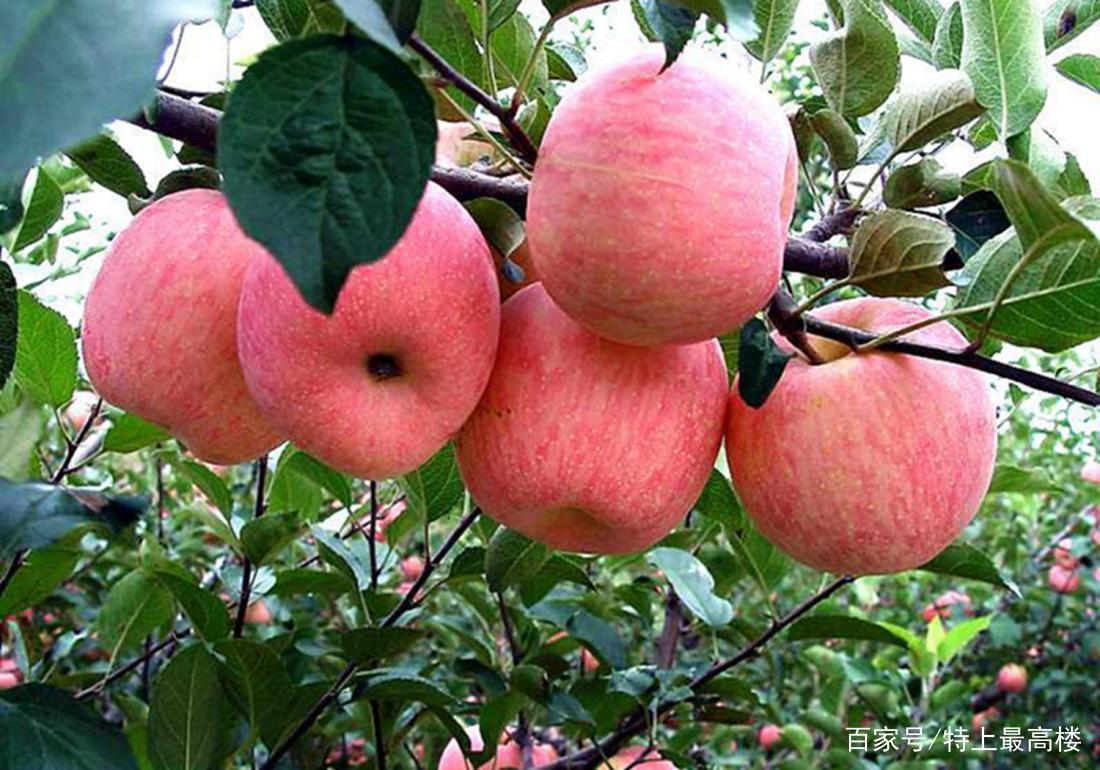apple: (523, 46, 796, 344), (235, 174, 499, 475), (457, 273, 729, 552), (726, 297, 995, 571), (82, 188, 298, 464), (995, 663, 1026, 692)
